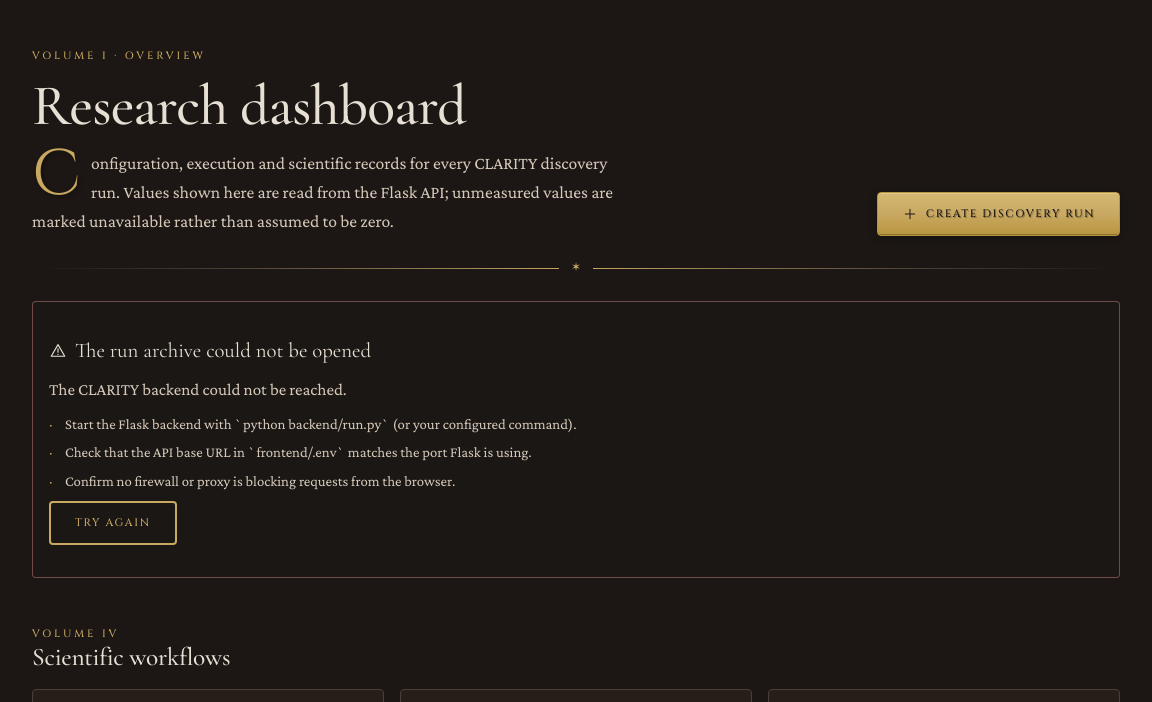
DashboardPage › renders a backend error and retries on request
The image size is (1152, 702).
expect the text "The run archive could not be opened" is shown: met, box [75,334,371,368]
expect the text "The CLARITY backend could not be reached." is shown: met, box [49,376,347,404]
Step 1. Click the button "Try again" → (113, 523), box [49,501,176,545]
(page scrolled)
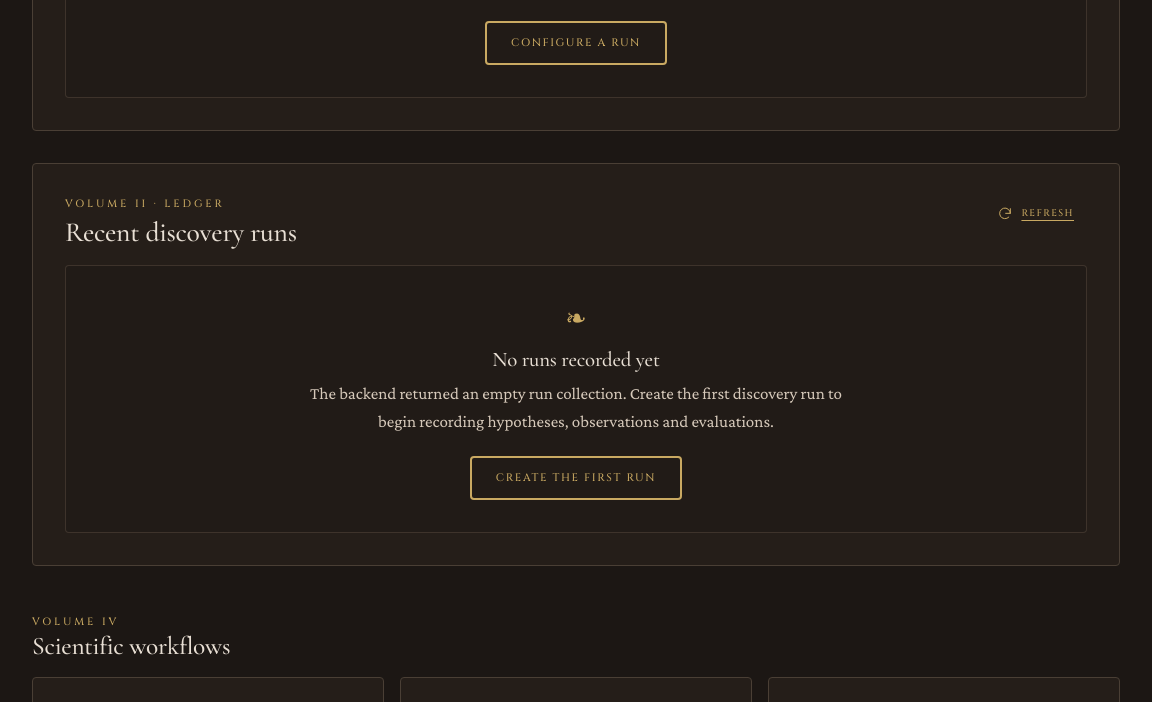
expect the heading "No runs recorded yet" is shown: met, box [492,348,660,372]
